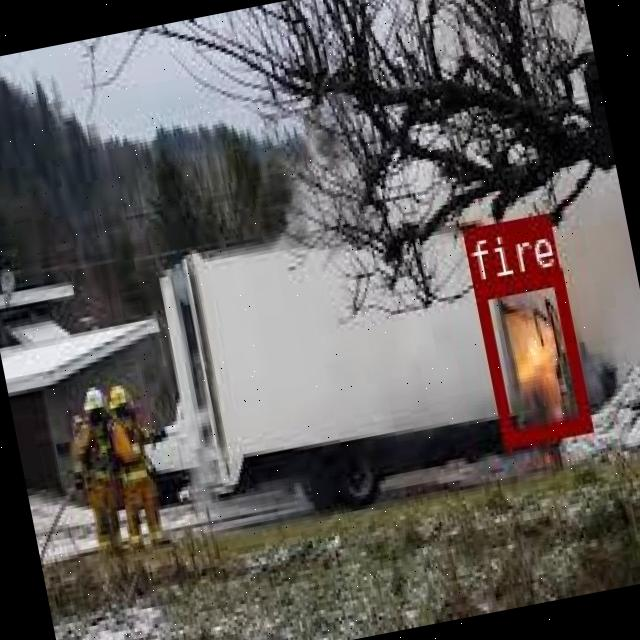fire: (472, 265, 592, 444)
